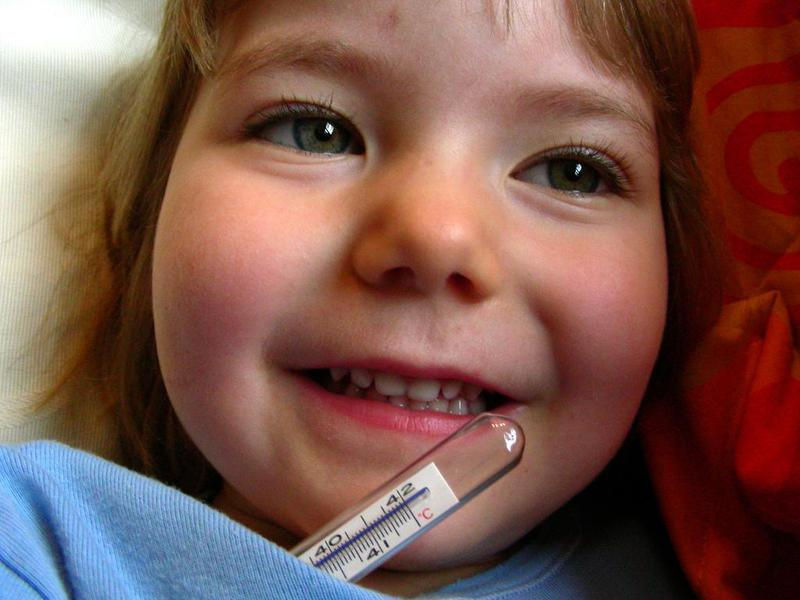person: (1, 1, 713, 600)
